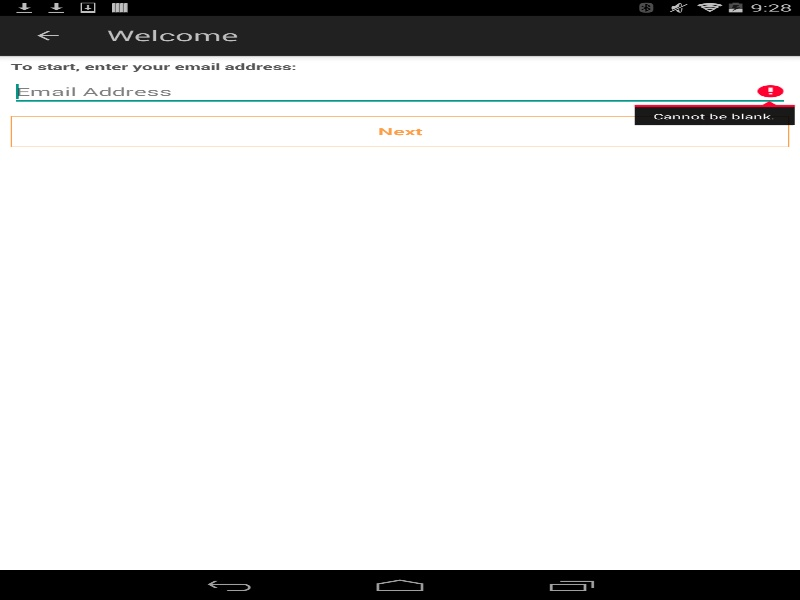Button: (10, 115, 789, 147), (10, 15, 85, 55)
Input: (10, 77, 789, 105)
